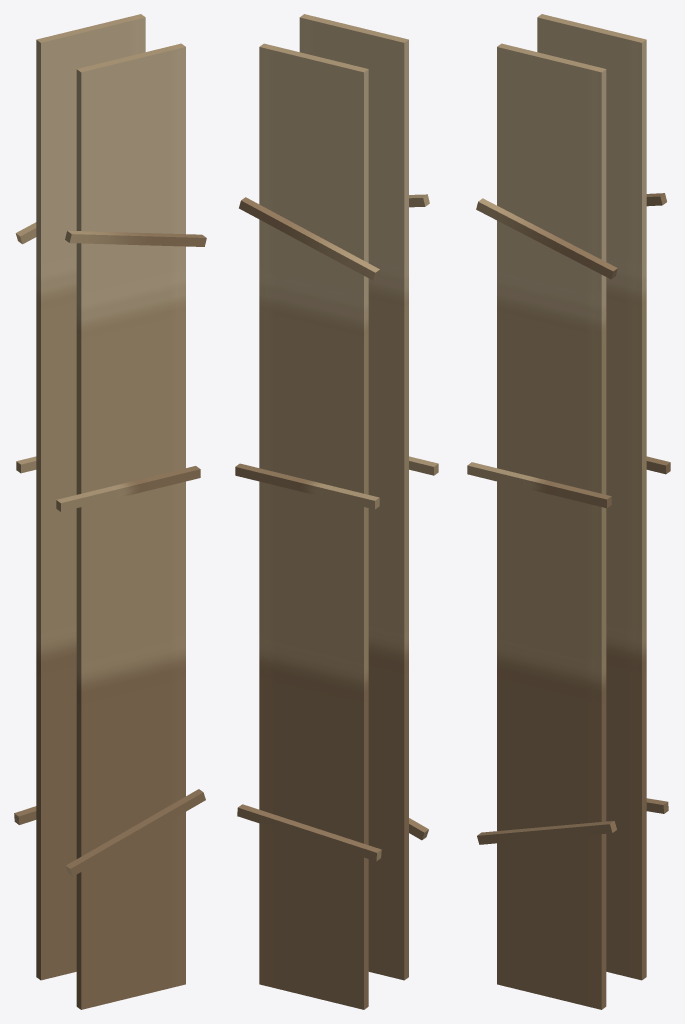
File: Concrete_Pillar_Holder_01.fbx
The picture shows the model from 3 angles, left to right: view 1: azimuth 30°, elevation 25°; view 2: azimuth 150°, elevation 25°; view 3: azimuth 330°, elevation 25°; orthographic projection.
Visible parts, largest first — view 1: Concrete_Pillar_Holder_01; view 2: Concrete_Pillar_Holder_01; view 3: Concrete_Pillar_Holder_01.
Part boxes in pixels (box(x1,y1,x2,y2)): Concrete_Pillar_Holder_01: box(14, 14, 206, 1009); Concrete_Pillar_Holder_01: box(235, 14, 438, 1009); Concrete_Pillar_Holder_01: box(467, 14, 670, 1009).
Bounding box in the file's own units: 48.31 × 290 × 30.39.
